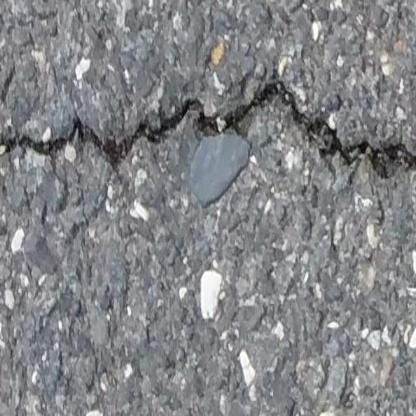Cracks: (0, 78, 416, 182)
